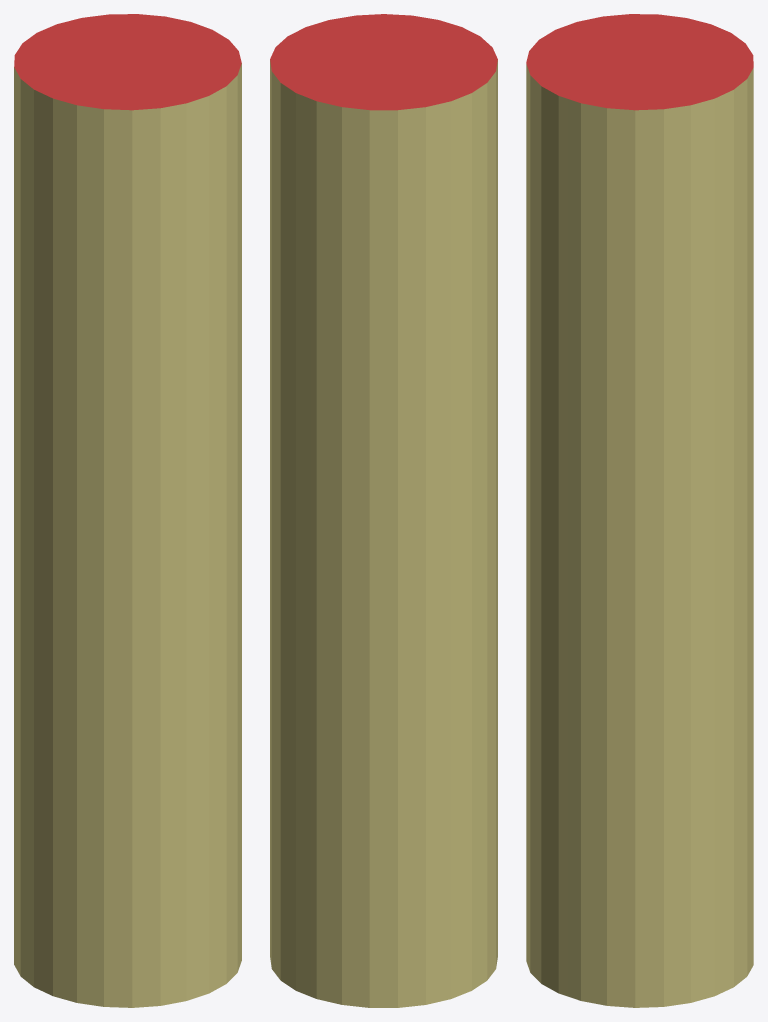
3 renders of one model, left to right at view 1: azimuth 30°, elevation 25°; view 2: azimuth 150°, elevation 25°; view 3: azimuth 270°, elevation 25°, orthographic.
Size of the model in its own units: 2.49 by 2.48 by 10.81.
